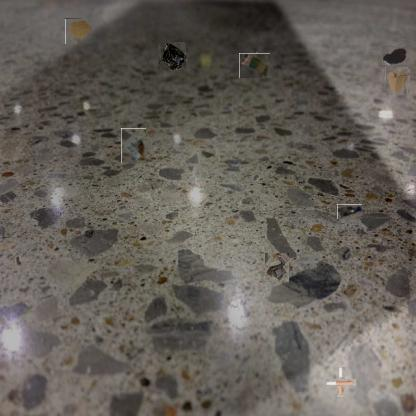dirty: (121, 128, 146, 163), (240, 52, 269, 80), (264, 253, 291, 281), (158, 43, 186, 70), (383, 68, 409, 94), (331, 372, 351, 392), (337, 204, 362, 219)
liquid: (65, 18, 92, 44), (381, 46, 407, 66)
